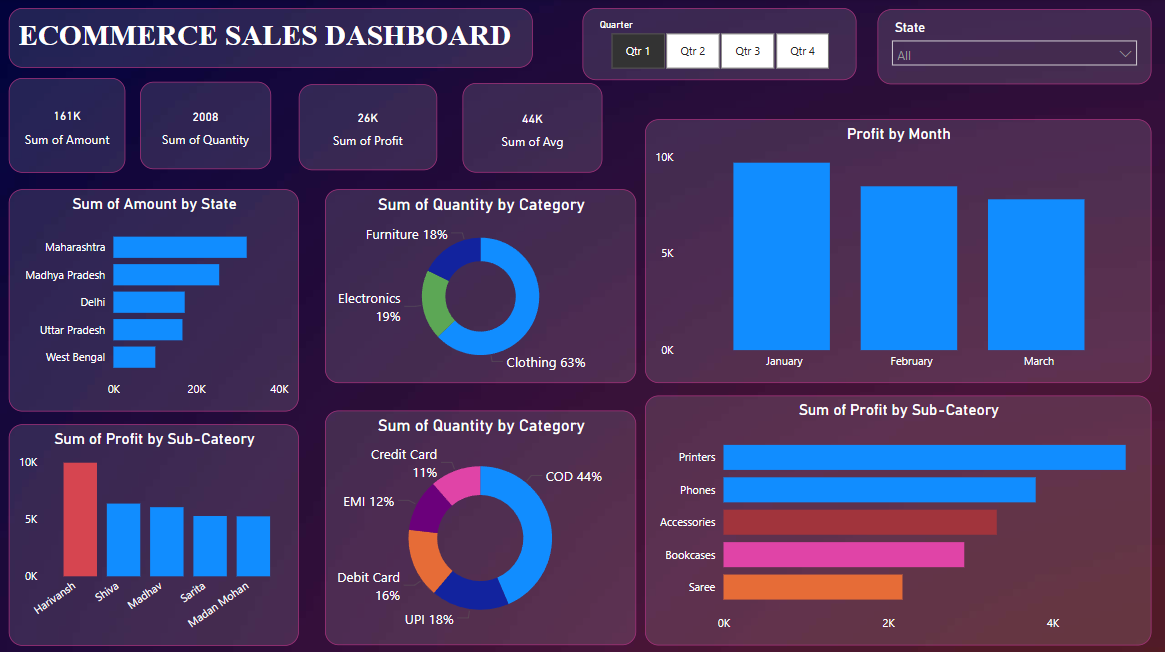

This screenshot's page, from the dashboard's own definition file:
{"tool":"powerbi","page":{"name":"Page 1","canvas":[1280,720],"ordinal":0},"visuals":[{"type":"textbox","box":[9.6,11,575,65.9],"z":0},{"type":"columnChart","title":" Profit by Month","fields":{"Category":["Orders.Order Date.Variation.Date Hierarchy.Month"],"Y":["Sum(Details.Profit)"]},"box":[708.1,133.1,555.7,289.5],"z":1000},{"type":"barChart","title":" Sum of Profit by Sub-Cateory","fields":{"Category":["Details.Sub-Category"],"Y":["Sum(Details.Profit)"]},"box":[708.1,436.4,555.7,274.4],"z":2000},{"type":"donutChart","title":" Sum of Quantity   by Category","fields":{"Category":["Details.Category"],"Y":["Sum(Details.Quantity)"]},"box":[356.8,209.9,341.7,212.7],"z":3000},{"type":"donutChart","title":" Sum of Quantity   by Category","fields":{"Y":["Sum(Details.Quantity)"],"Category":["Details.PaymentMode"]},"box":[356.8,452.8,341.7,258],"z":4000},{"type":"card","fields":{"Values":["Sum(Details.Amount)"]},"box":[9.6,87.8,127.6,104.3],"z":5000},{"type":"card","fields":{"Values":["Sum(Details.Quantity)"]},"box":[153.7,91.9,144.1,96.1],"z":6000},{"type":"card","fields":{"Values":["Sum(Details.Profit)"]},"box":[328,94.7,152.3,94.7],"z":7000},{"type":"card","fields":{"Values":["Sum(Details.Avg)"]},"box":[507.7,93.3,153.7,98.8],"z":8000},{"type":"barChart","title":" Sum of Amount by State","fields":{"Category":["Orders.State"],"Y":["Sum(Details.Amount)"]},"box":[9.6,209.9,318.4,244.3],"z":9000},{"type":"columnChart","title":" Sum of Profit by Sub-Cateory","fields":{"Category":["Orders.CustomerName"],"Y":["Sum(Details.Amount)"]},"box":[9.6,467.9,318.4,242.9],"z":10000},{"type":"slicer","fields":{"Values":["Orders.Order Date.Variation.Date Hierarchy.Quarter"]},"box":[639.5,11,300.5,79.6],"z":11000},{"type":"slicer","fields":{"Values":["Orders.State"]},"box":[963.3,12.3,300.5,82.3],"z":12000}]}

Visuals, with their boxes in screenshot pixels (x1, y1, x2, y2), scaled from the page's 1280x720 canvas onto the 1165x652 screenshot:
textbox: (left=9, top=10, right=532, bottom=70)
" Profit by Month" columnChart: (left=644, top=121, right=1150, bottom=383)
" Sum of Profit by Sub-Cateory" barChart: (left=644, top=395, right=1150, bottom=644)
" Sum of Quantity   by Category" donutChart: (left=325, top=190, right=636, bottom=383)
" Sum of Quantity   by Category" donutChart: (left=325, top=410, right=636, bottom=644)
card - Sum(Details.Amount): (left=9, top=80, right=125, bottom=174)
card - Sum(Details.Quantity): (left=140, top=83, right=271, bottom=170)
card - Sum(Details.Profit): (left=299, top=86, right=437, bottom=172)
card - Sum(Details.Avg): (left=462, top=84, right=602, bottom=174)
" Sum of Amount by State" barChart: (left=9, top=190, right=299, bottom=411)
" Sum of Profit by Sub-Cateory" columnChart: (left=9, top=424, right=299, bottom=644)
slicer - Orders.Order Date.Variation.Date Hierarchy.Quarter: (left=582, top=10, right=856, bottom=82)
slicer - Orders.State: (left=877, top=11, right=1150, bottom=86)
